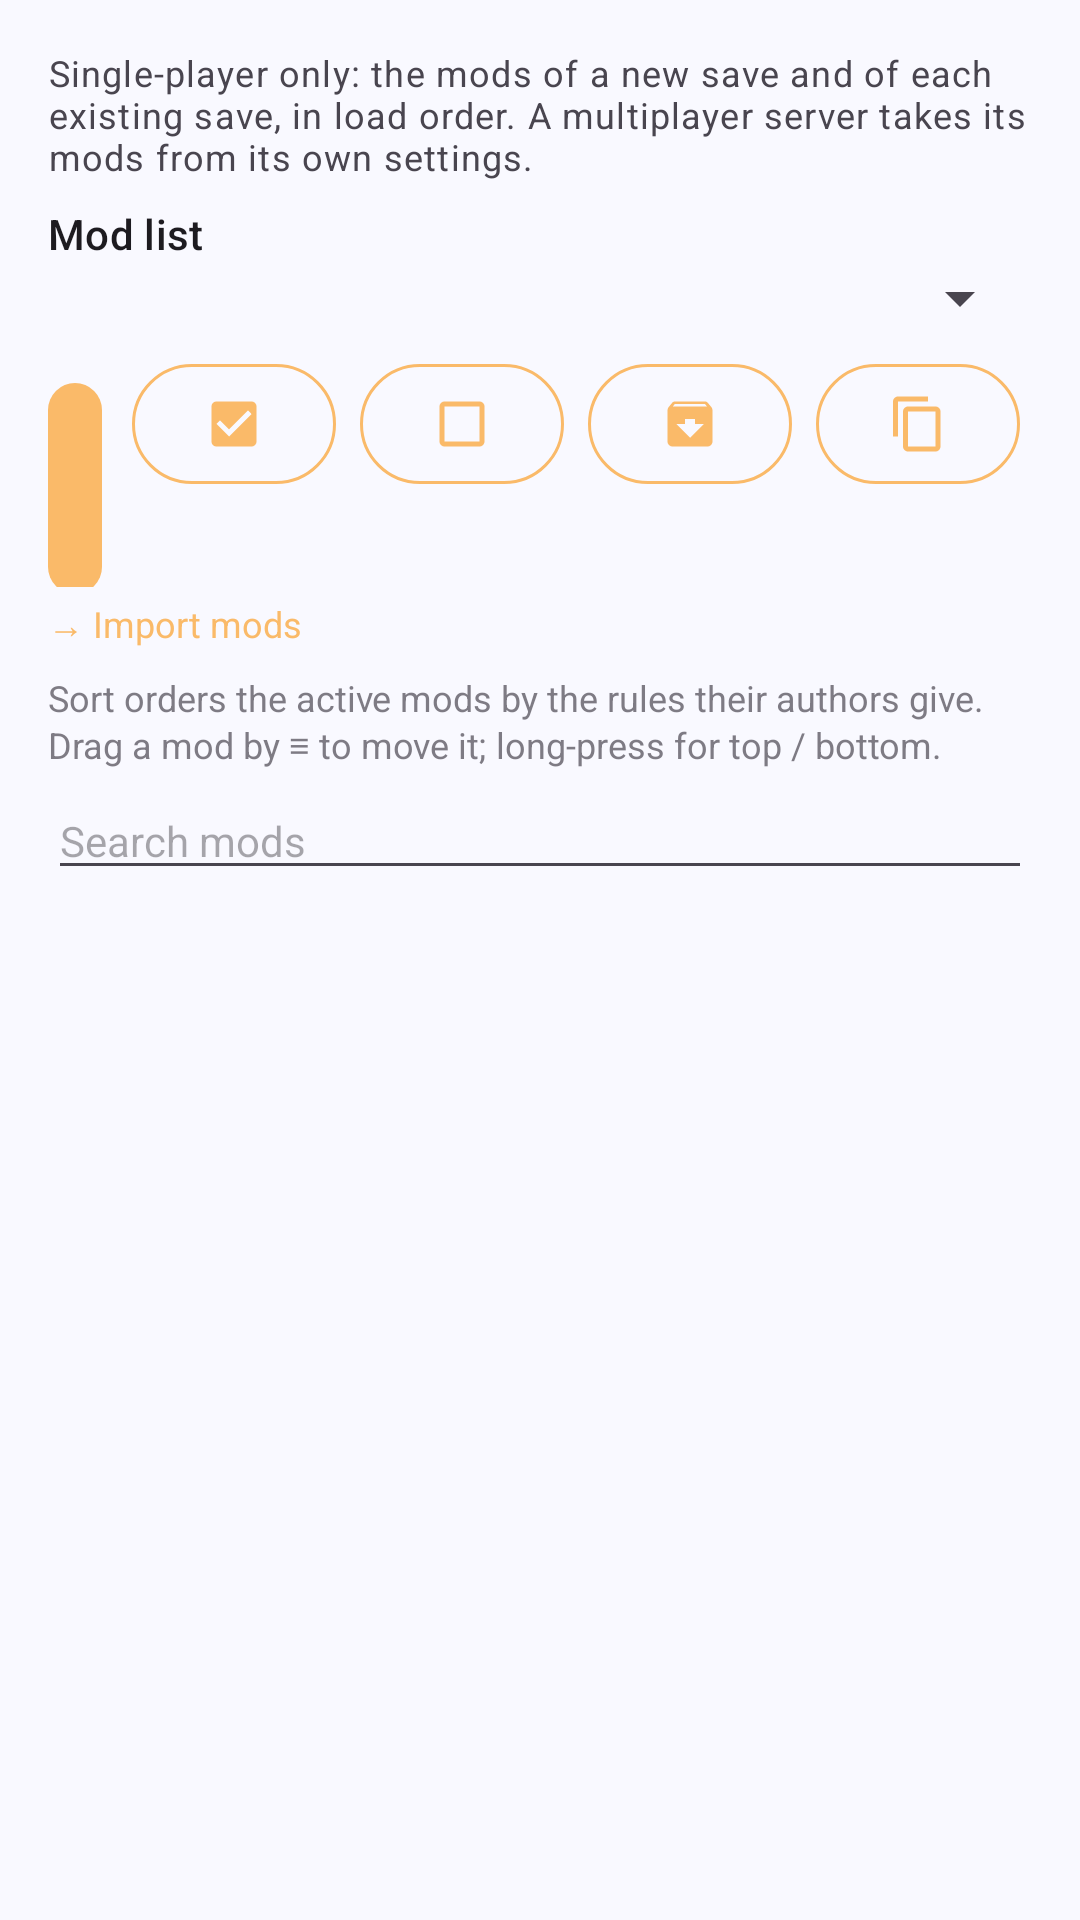

Named icons in this screenshot (1080×1920) and their bounding boxes, (x1, y1, x2, y2):
Copy all mods to another instance: (816, 364, 1020, 484)
Disable all shown: (360, 364, 564, 484)
Enable all shown: (132, 364, 336, 484)
Export mods: (588, 364, 792, 484)
